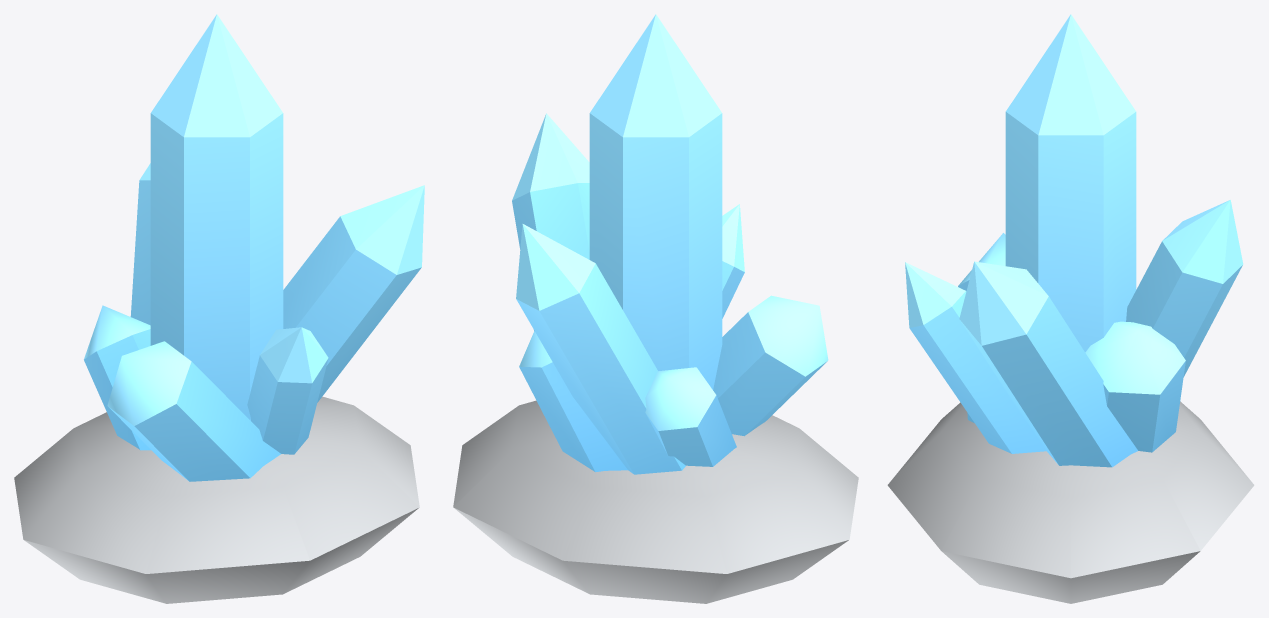
Rendered from prop.glacier_crystal.glb.
3 views of the same model, side by side, from view 1: azimuth 30°, elevation 25°; view 2: azimuth 150°, elevation 25°; view 3: azimuth 270°, elevation 25° (orthographic).
Visible parts, largest first — view 1: glacier_crystal; view 2: glacier_crystal; view 3: glacier_crystal.
Part boxes in pixels (x1=…): glacier_crystal: x1=14, y1=14, x2=424, y2=603; glacier_crystal: x1=453, y1=14, x2=858, y2=603; glacier_crystal: x1=887, y1=14, x2=1254, y2=603.
Size of the model in its own units: 2.16 by 2.95 by 1.8.
